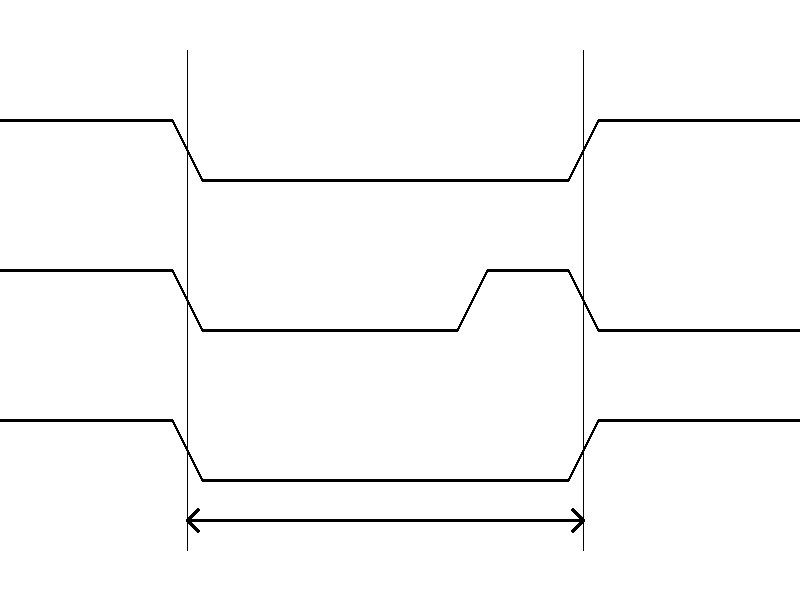double_arrow: (187, 505, 583, 535)
